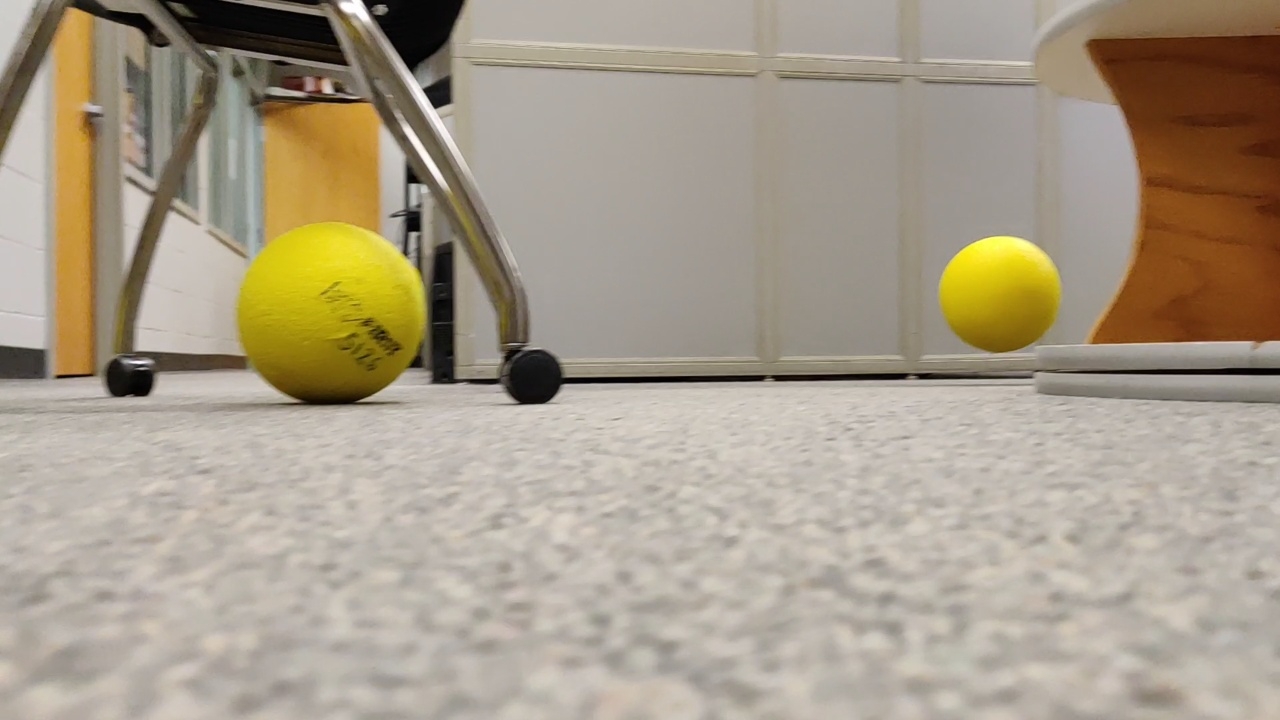Ball: (239, 224, 431, 416), (933, 232, 1057, 354)
